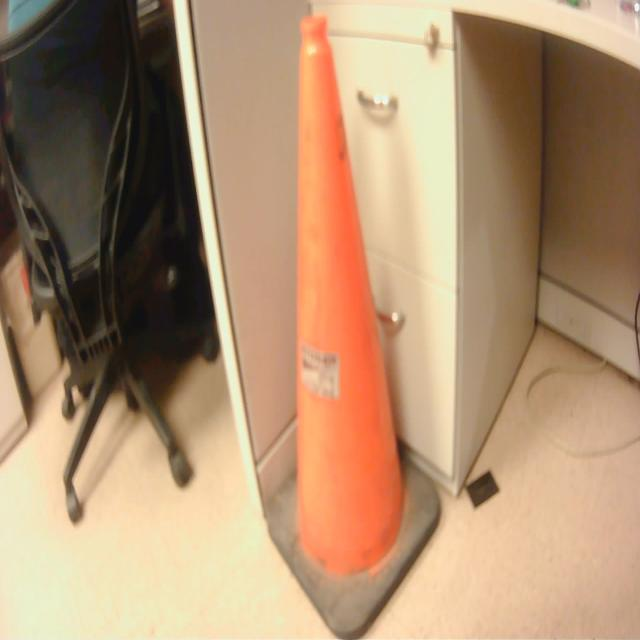traffic cone: (259, 7, 446, 640)
